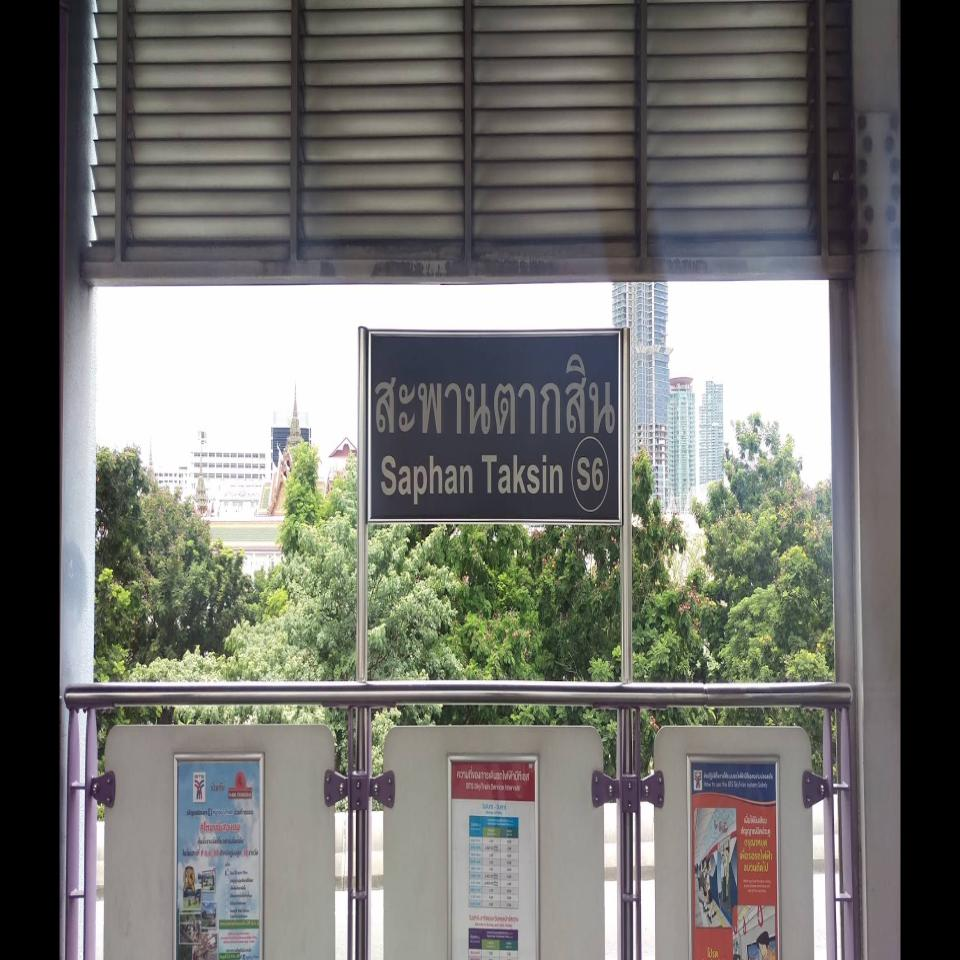Saphan Taksin: (368, 324, 623, 526)
